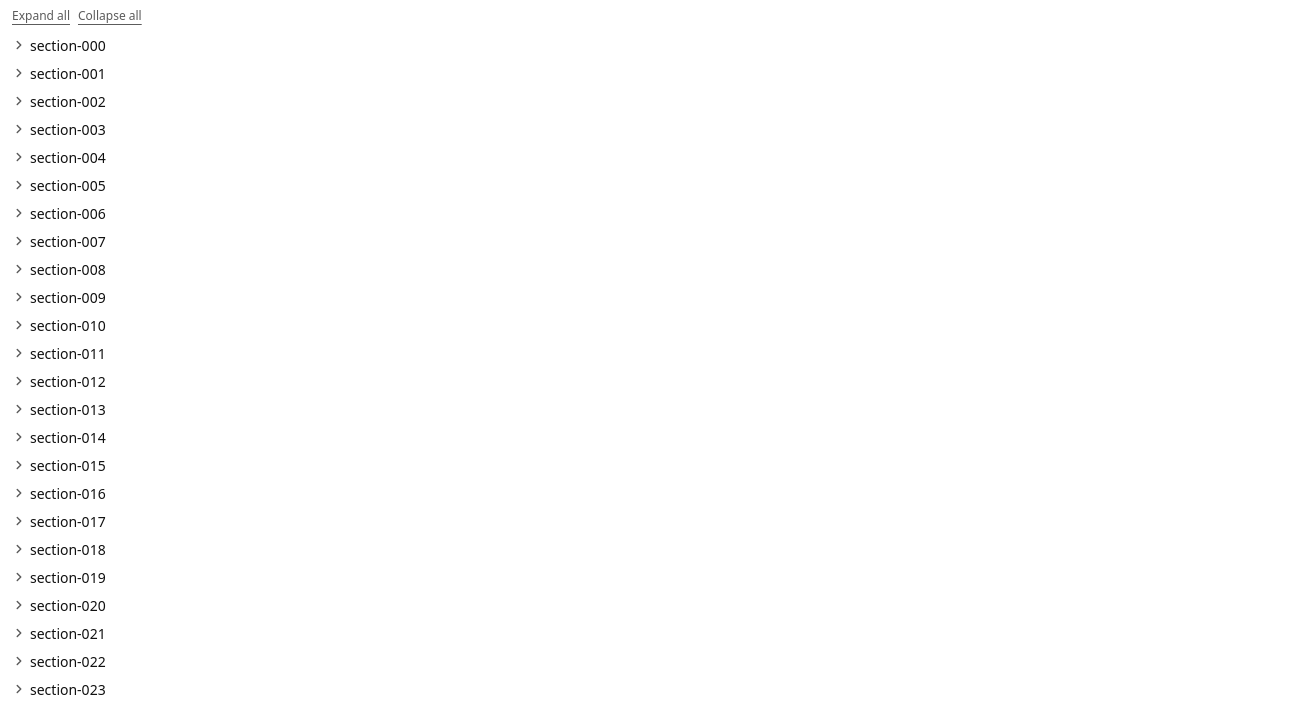
Test case: DocsTree, many documents › renders 2000 documents in 100 folders and toggles a folder quickly
Click the button "section-007" at coordinates (68, 242), box [12,228,1292,256]
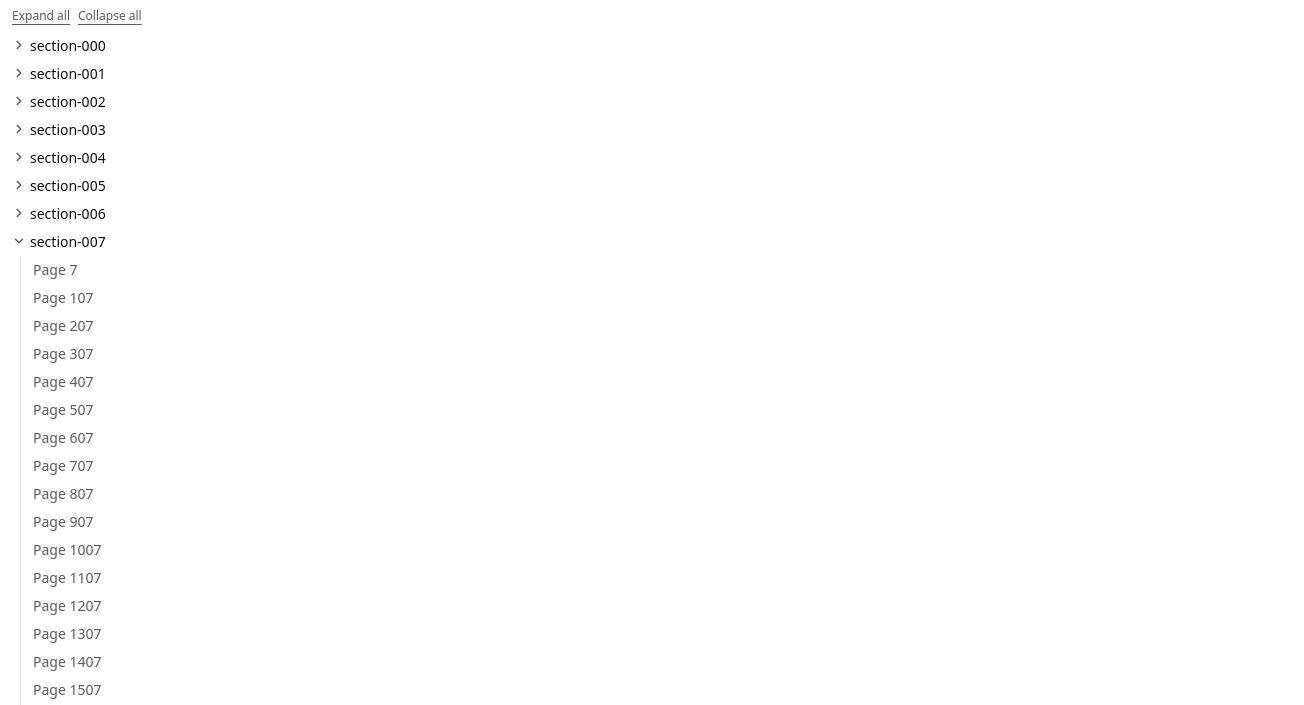
expect the number of links is 20: met
